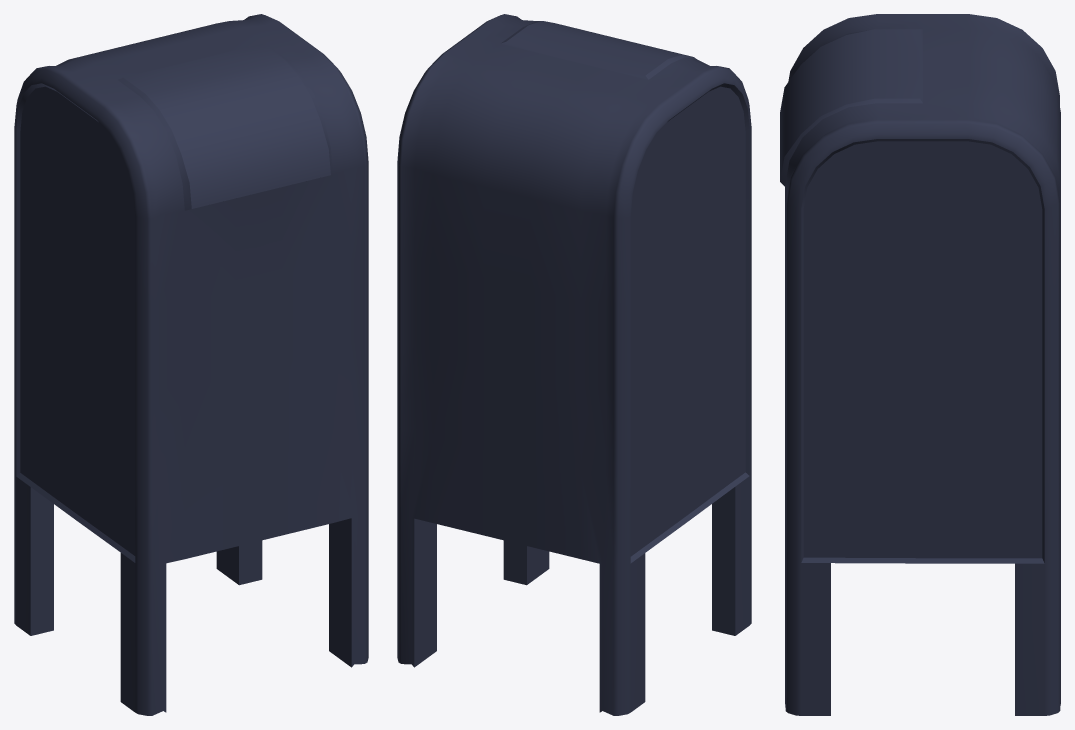
File: LetterBox_textured.fbx
The picture shows the model from 3 angles, left to right: view 1: azimuth 30°, elevation 25°; view 2: azimuth 150°, elevation 25°; view 3: azimuth 270°, elevation 25°; orthographic projection. The views are drawn at different scales.
Visible parts, largest first — view 1: Final; view 2: Final; view 3: Final.
Part boxes in pixels (box(x1,y1,x2,y2)): Final: box(14, 14, 368, 715); Final: box(397, 14, 751, 715); Final: box(780, 14, 1060, 715).
Size of the model in its own units: 48.91 by 117 by 50.26.
